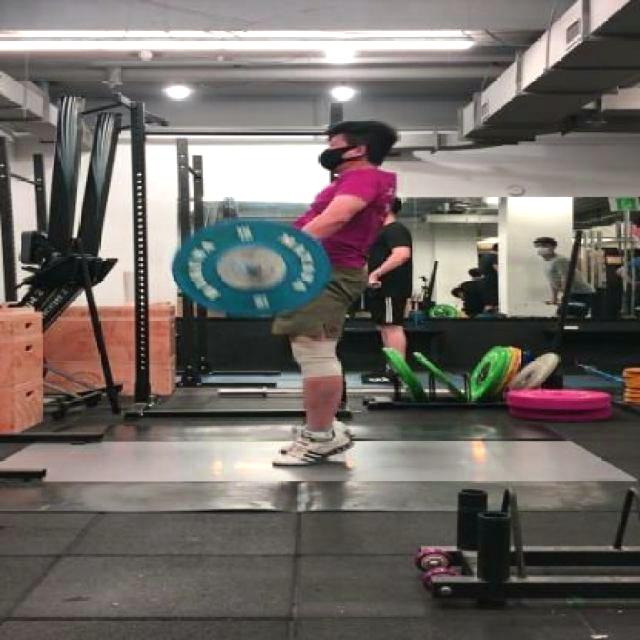barbell: (162, 216, 339, 320)
